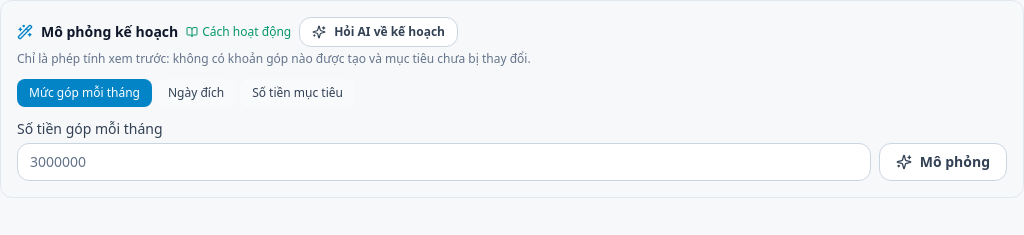
Test: GoalPlanSimulator — read-only simulation › blocks a monthly amount that is zero or not a money value
This screenshot has width=1024, height=235.
Type "0" into the field labelled "Số tiền góp mỗi tháng" at (444,162), box x1=17 y1=143 x2=871 y2=181
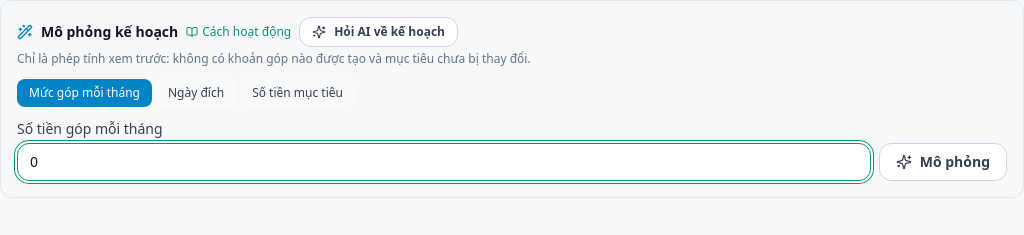
Click the button "Mô phỏng" at (943,162), box x1=879 y1=143 x2=1007 y2=181
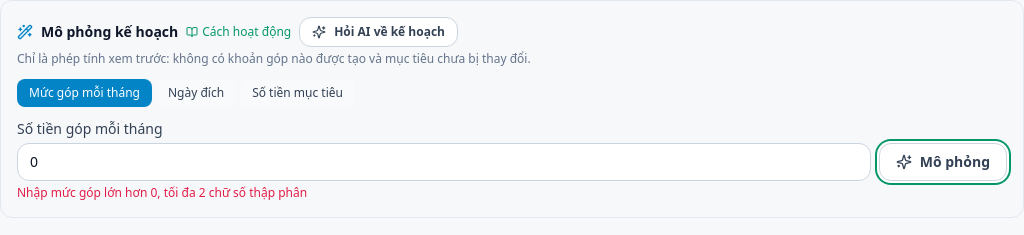
Result: the text "Nhập mức góp lớn hơn 0, tối đa 2 chữ số thập phân" is shown at x1=17 y1=184 x2=307 y2=201
